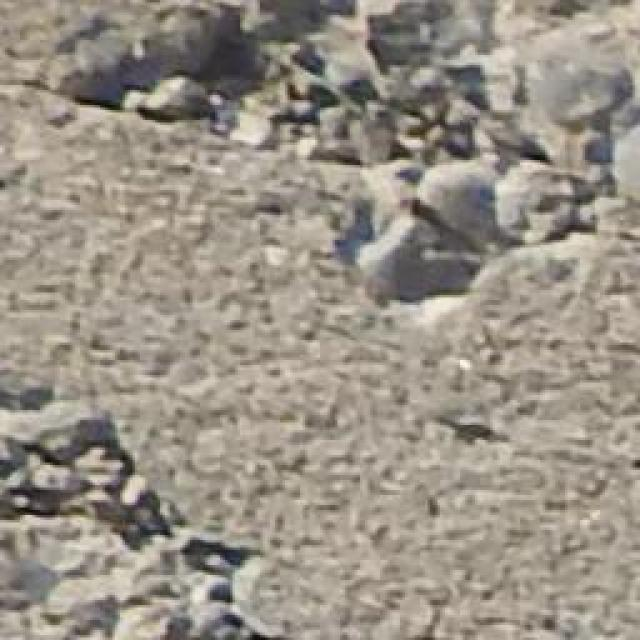concrete-crack: (0, 365, 291, 638)
